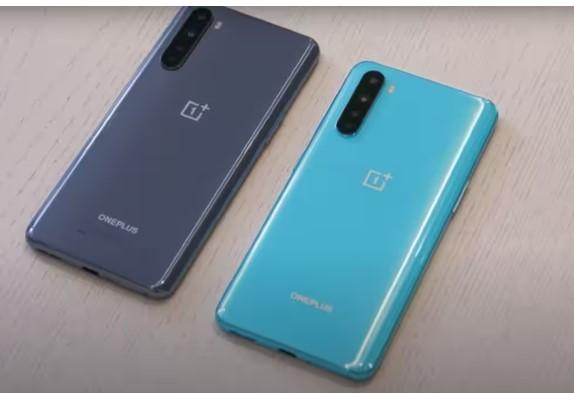Smart Phone: (214, 61, 500, 382), (25, 6, 320, 300)
